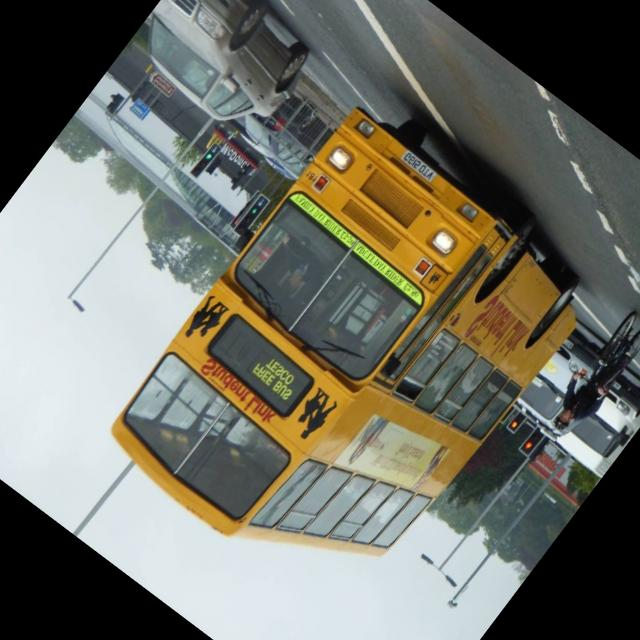bus: (93, 82, 614, 632)
